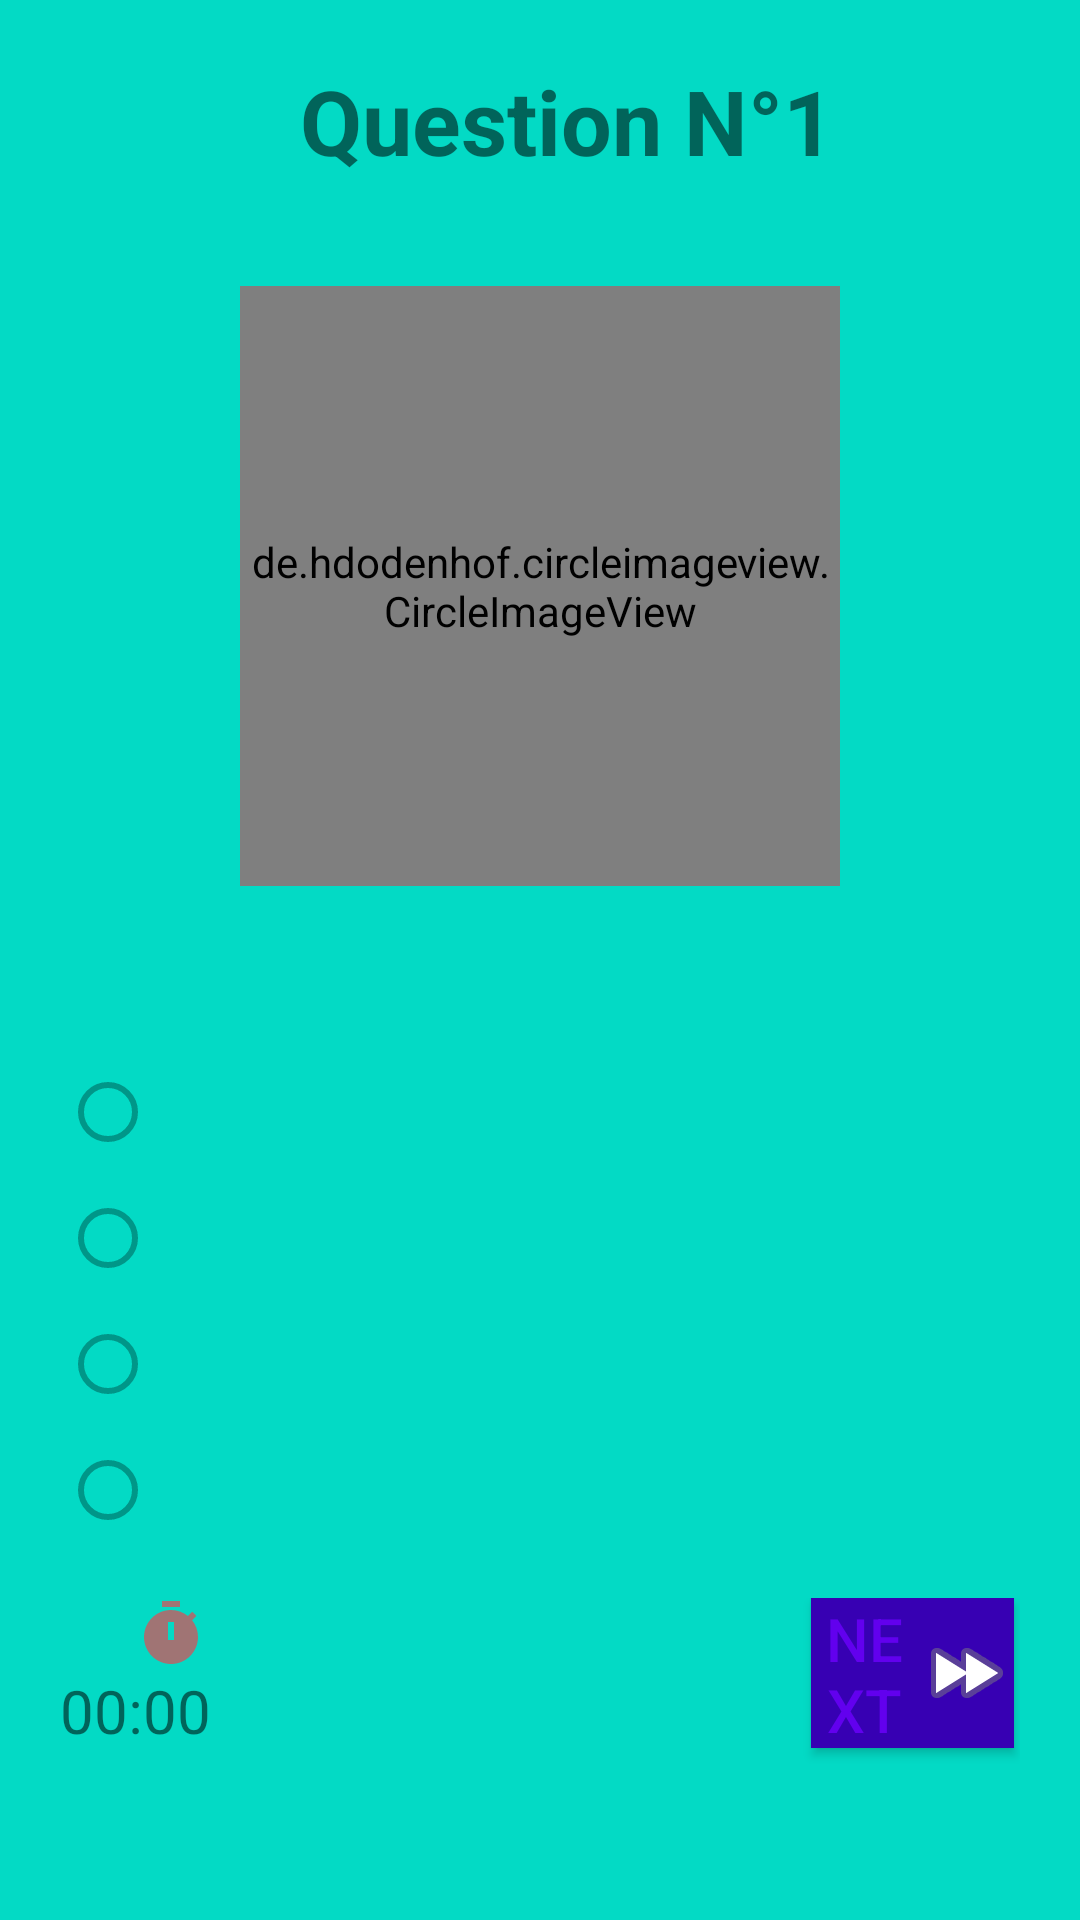

Named icons in this screenshot (1080w x 1920h) and their centers, point (x, y):
timer: point (171, 1632)
